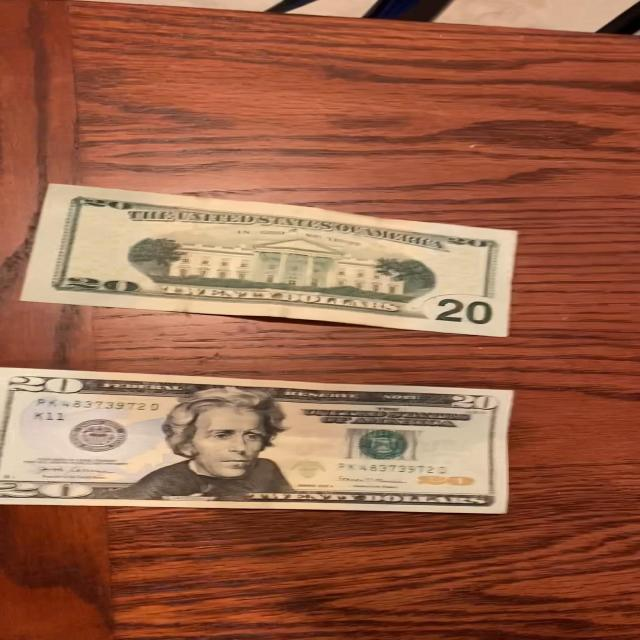20-Back: (20, 181, 522, 341)
20-Front: (0, 367, 517, 515)
